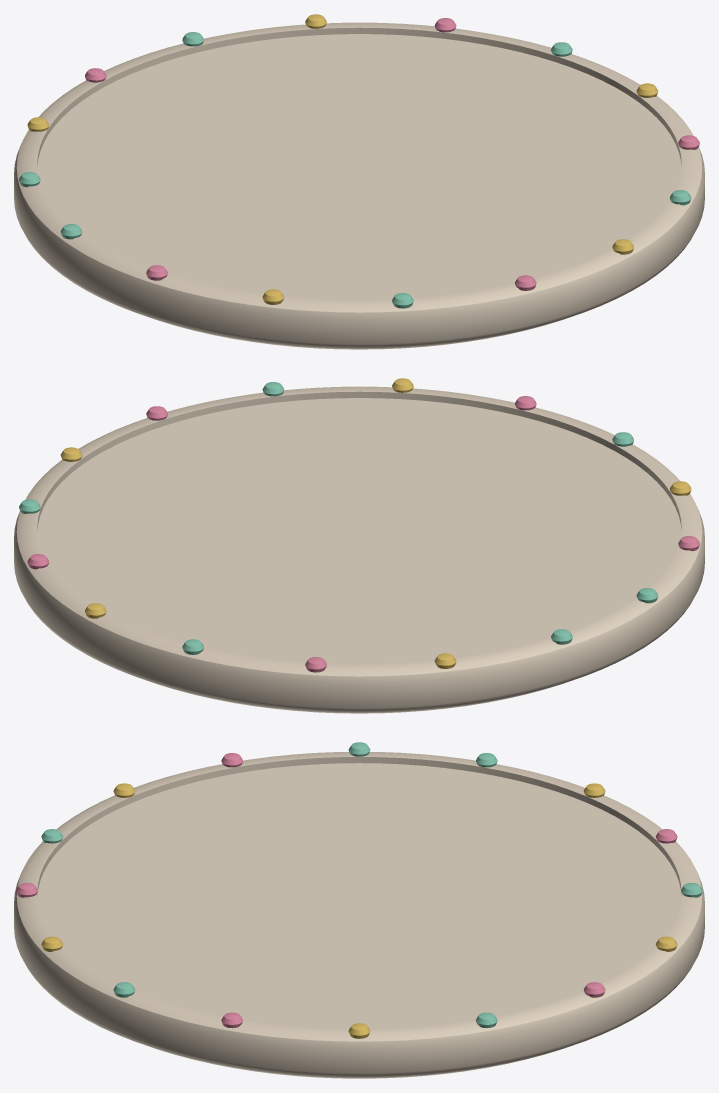
The model's file is Title_Stage.fbx.
3 views of the same model, one above another, from view 1: azimuth 30°, elevation 25°; view 2: azimuth 150°, elevation 25°; view 3: azimuth 270°, elevation 25° (orthographic).
Visible parts, largest first — view 1: Title_Stage; view 2: Title_Stage; view 3: Title_Stage.
Part boxes in pixels (<box>): Title_Stage: <box>14,14,704,349</box>; Title_Stage: <box>14,378,704,713</box>; Title_Stage: <box>14,742,704,1078</box>.
Bounding box in the file's own units: 1.01 × 0.089 × 1.01.
